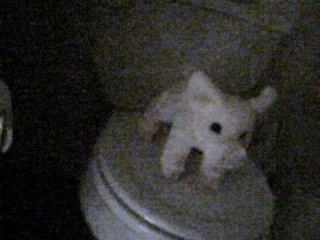piggy: (138, 68, 278, 191)
